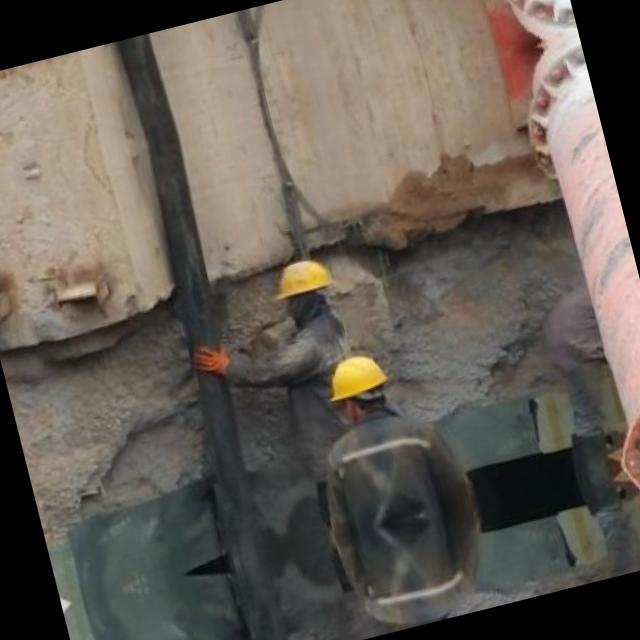helmet: (314, 345, 398, 430), (262, 248, 346, 328)
